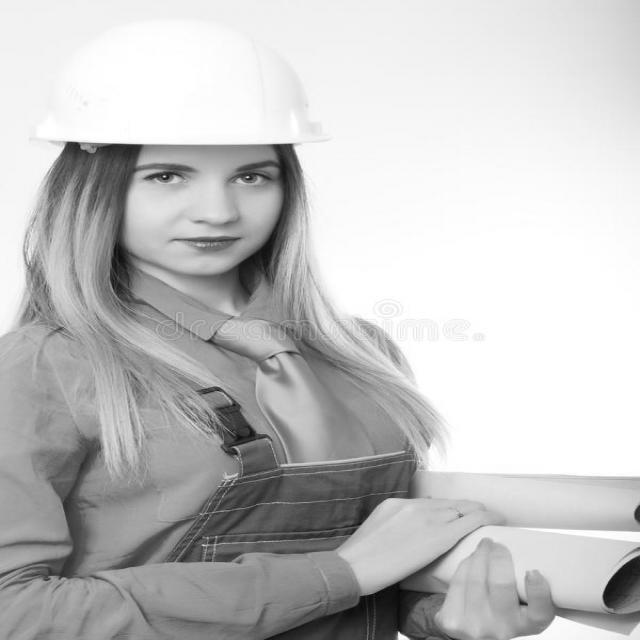safety_helmet: (30, 20, 332, 149)
